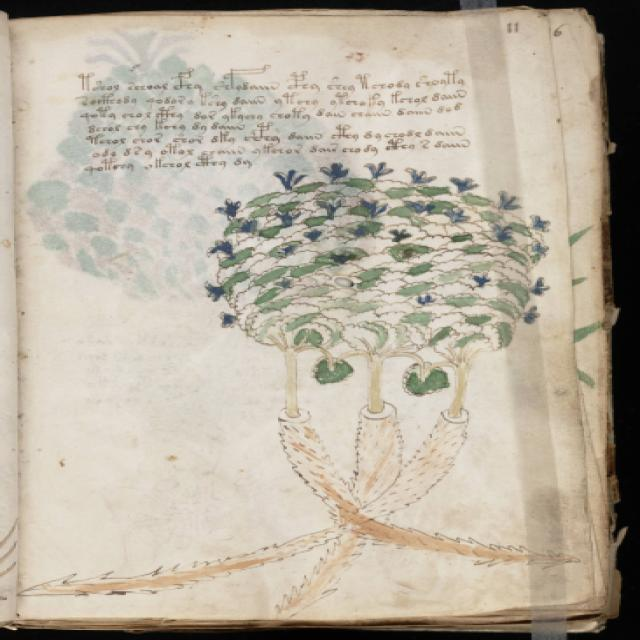plant: (12, 154, 591, 620)
